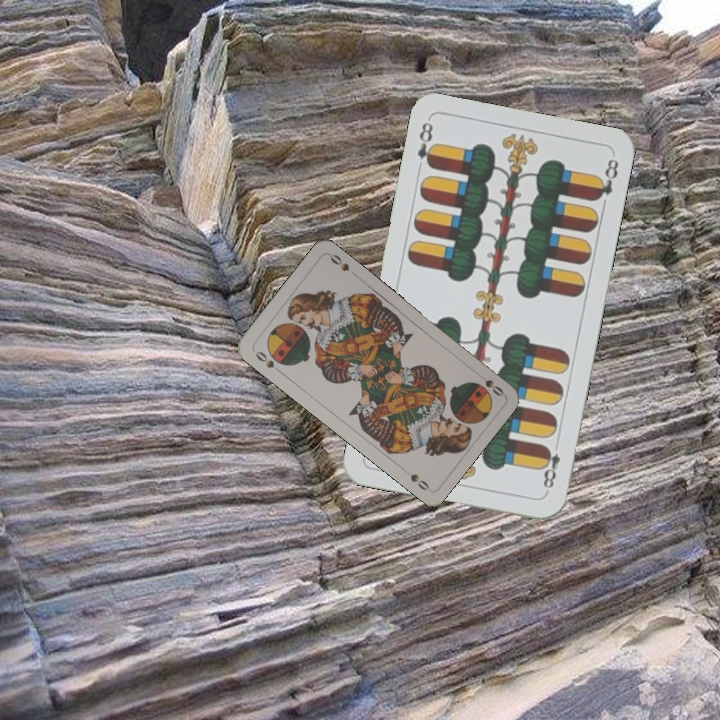E8: (537, 442, 563, 495), (413, 118, 439, 171)
SO: (249, 346, 284, 376), (472, 369, 506, 399)
